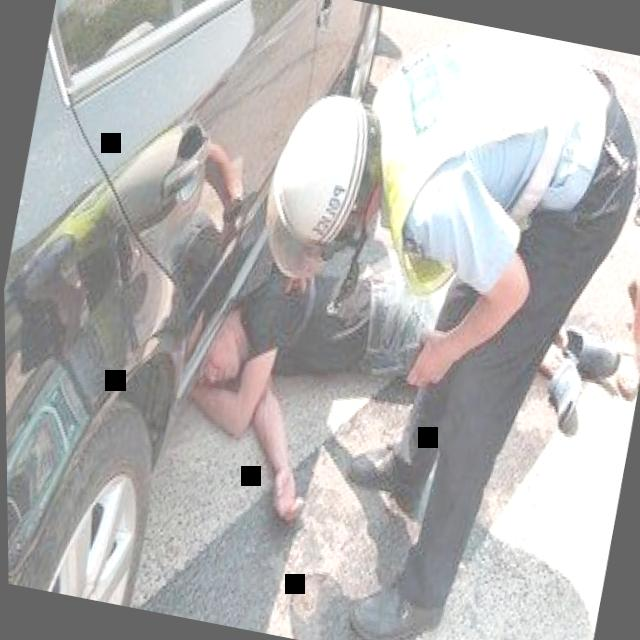Fall-Detected: (140, 109, 640, 614)
